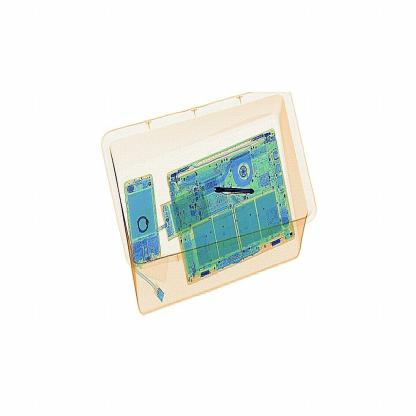knife: (214, 182, 260, 198)
